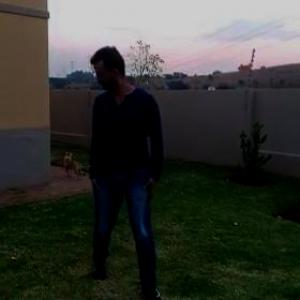follow: (84, 37, 174, 299)
